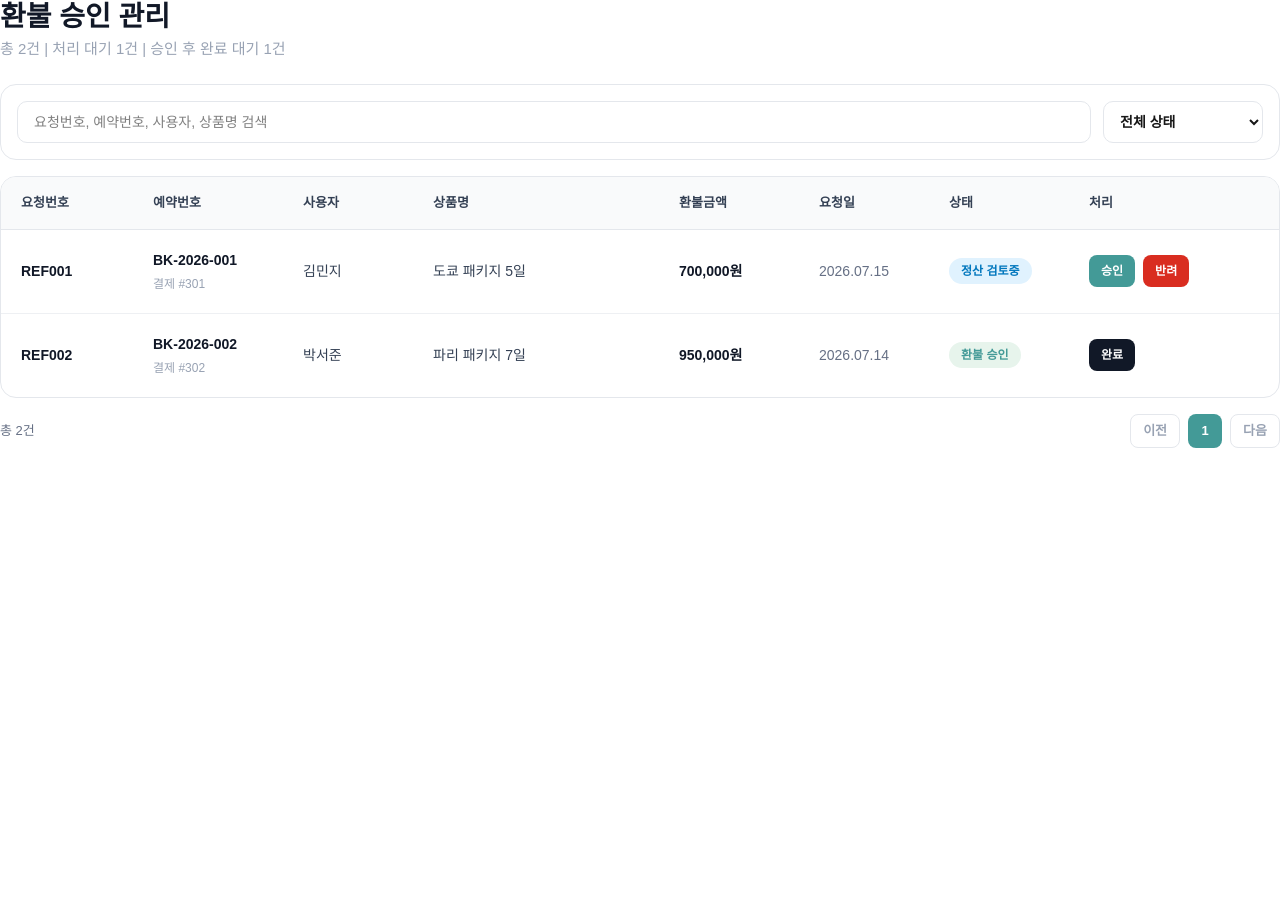
Test: MoneyRefundManageClient 컴포넌트 테스트 › 완료 처리 확인 후 완료 모달을 보여준다
This screenshot has width=1280, height=900.
What coordinates should you click on to do the following:
click the button "완료"
I would click on:
 (1112, 355)
Its box is x1=1089 y1=339 x2=1135 y2=371.
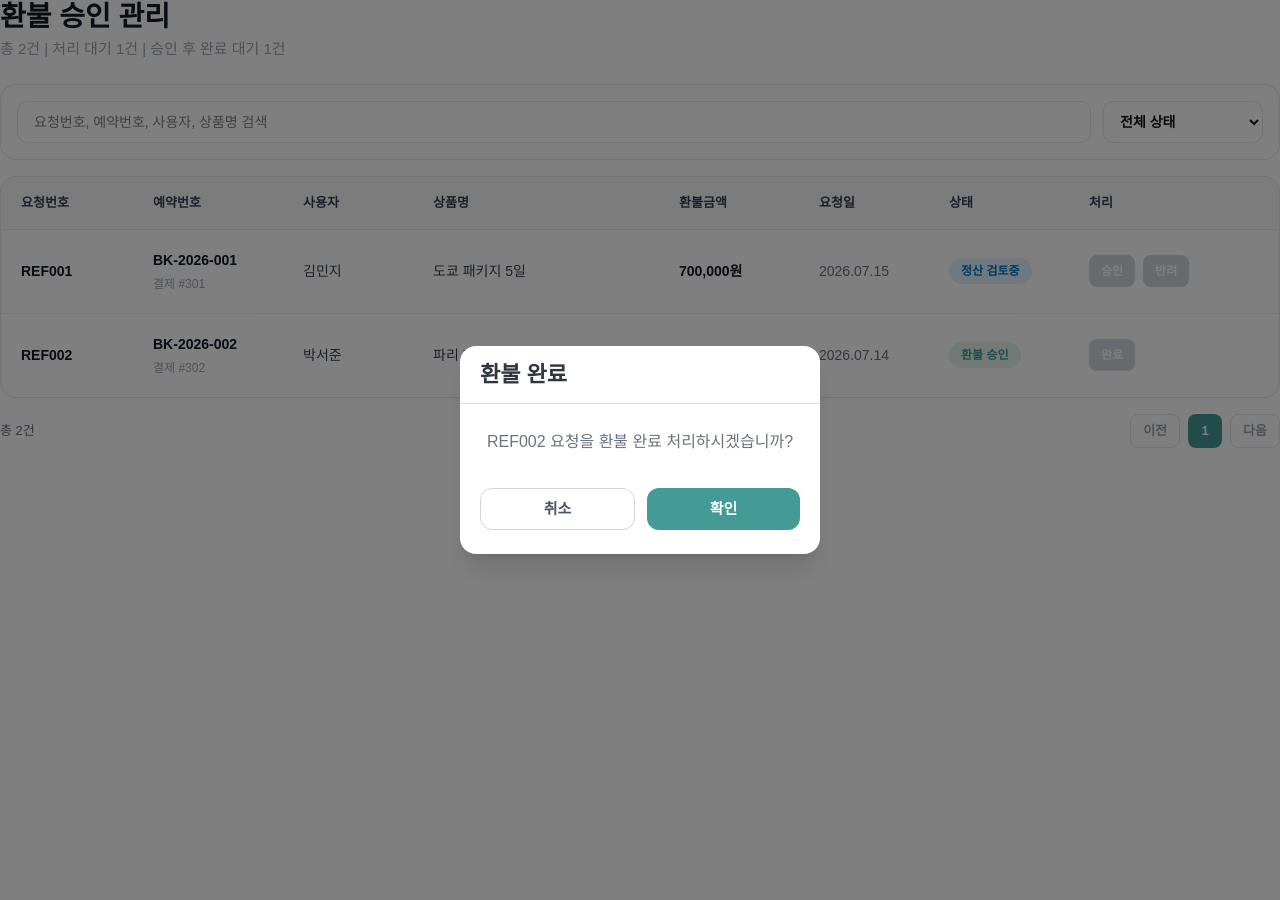
Now the text "REF002 요청을 환불 완료 처리하시겠습니까?" is shown, box x1=487 y1=428 x2=793 y2=456
What coordinates should you click on to do the following:
click the button "확인"
I would click on:
 (724, 509)
Its box is x1=647 y1=488 x2=800 y2=530.
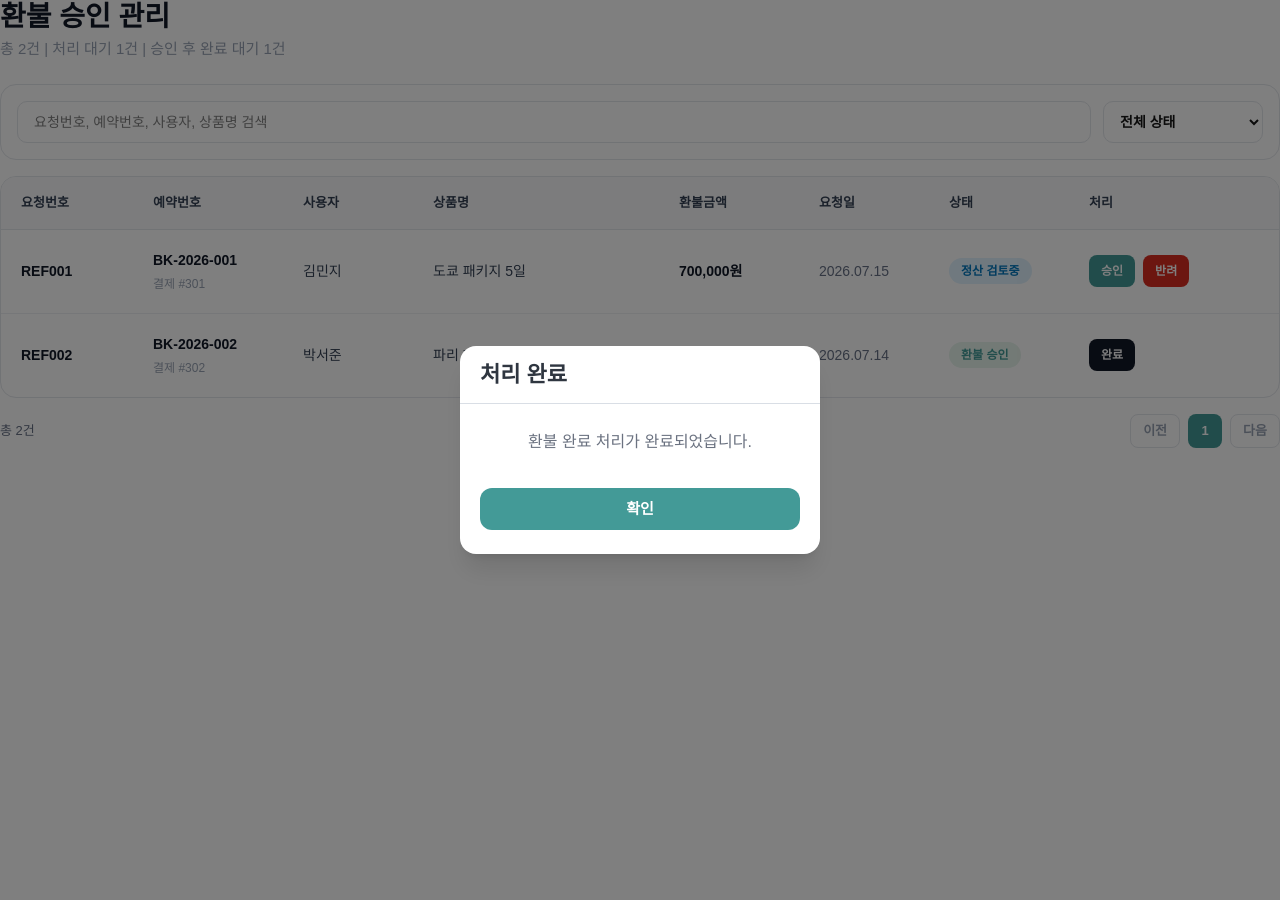
Now the text "환불 완료 처리가 완료되었습니다." is shown, box x1=528 y1=428 x2=752 y2=456
